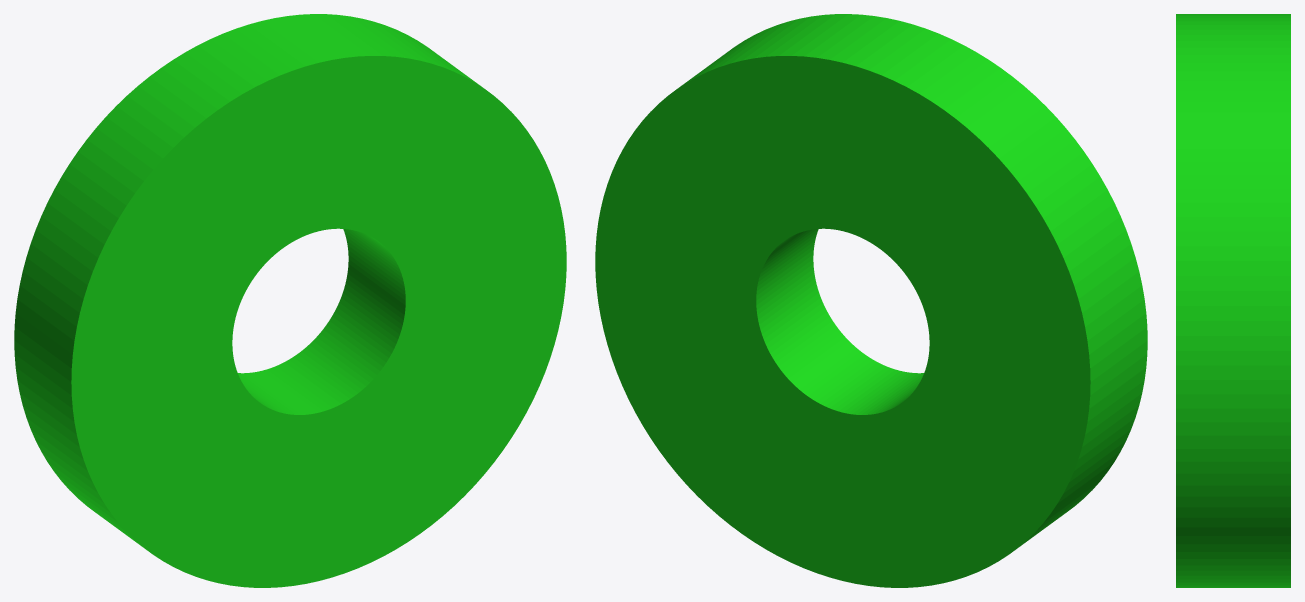
Rendered from washer.obj.
The picture shows the model from 3 angles, left to right: view 1: azimuth 30°, elevation 25°; view 2: azimuth 150°, elevation 25°; view 3: azimuth 270°, elevation 25°; orthographic projection.
Bounding box in the file's own units: 0.04 × 0.04 × 0.008.
